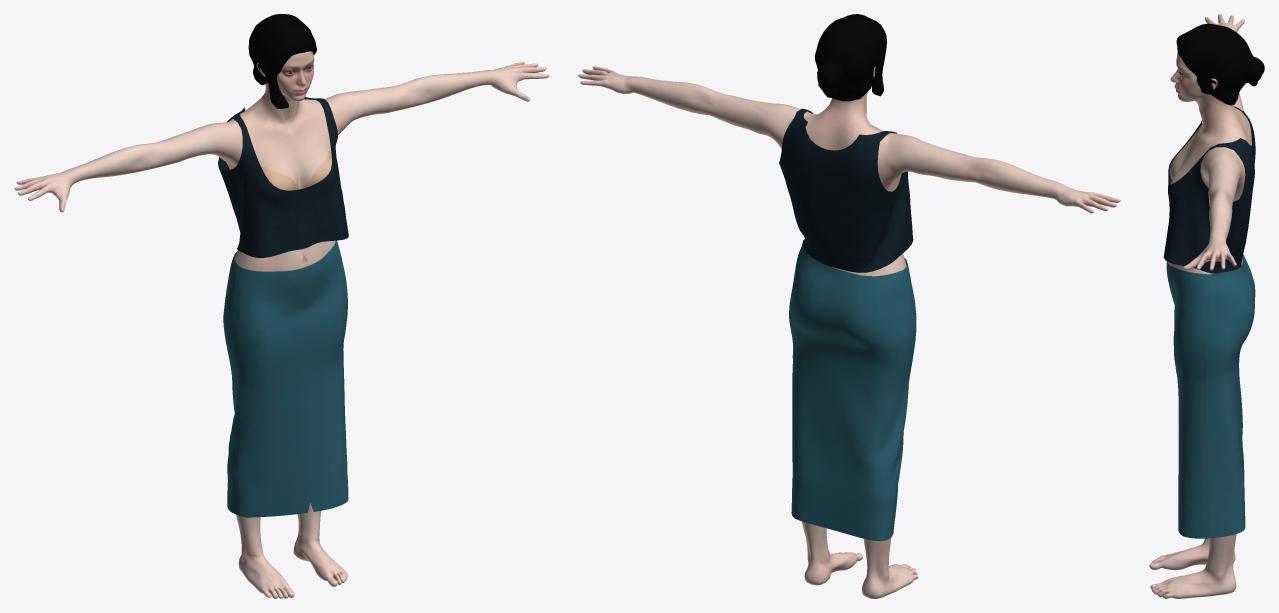
Rendered from Dramatic.obj.
3 views of the same model, side by side, from view 1: azimuth 30°, elevation 25°; view 2: azimuth 150°, elevation 25°; view 3: azimuth 270°, elevation 25° (orthographic). The views are drawn at different scales.
Size of the model in its own units: 1745 by 1761 by 333.
